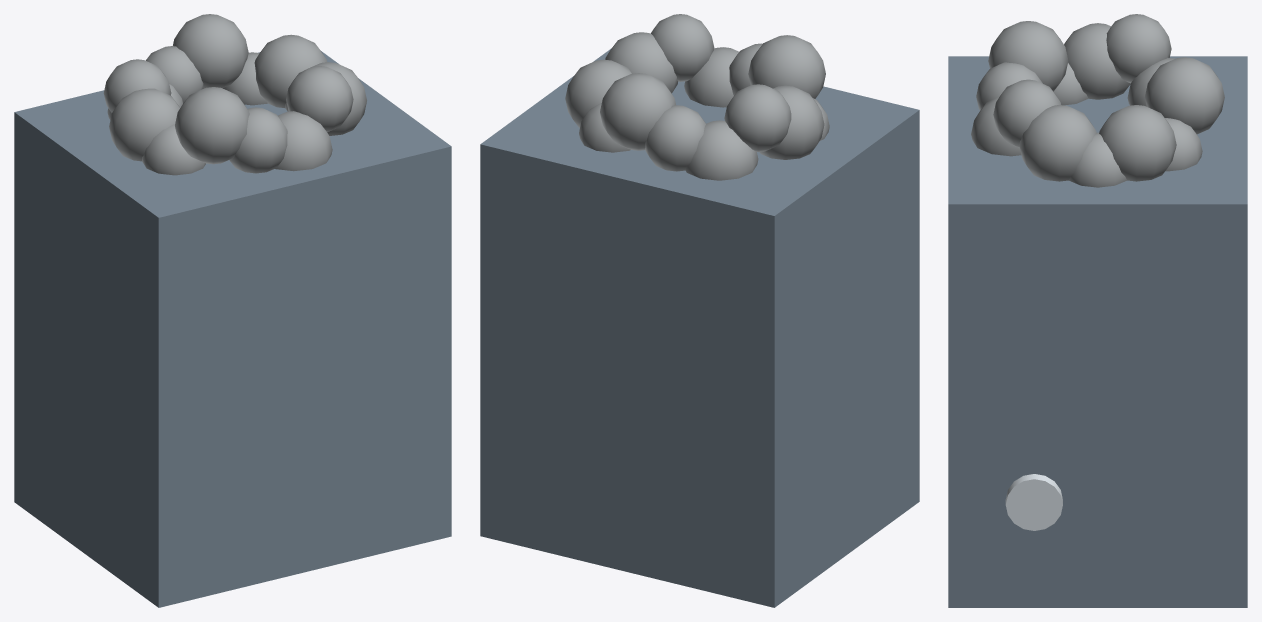
The model's file is sauna_heater01.glb.
The picture shows the model from 3 angles, left to right: view 1: azimuth 30°, elevation 25°; view 2: azimuth 150°, elevation 25°; view 3: azimuth 270°, elevation 25°; orthographic projection. The views are drawn at different scales.
Visible parts, largest first — view 1: casing_steel_painted_0, stones_stone_3; view 2: casing_steel_painted_0, stones_stone_3; view 3: casing_steel_painted_0, stones_stone_3, thermostat_chrome_4.
Part boxes in pixels (x1,y1,x2,y2): casing_steel_painted_0: [14, 51, 451, 607]; stones_stone_3: [103, 14, 366, 175]; casing_steel_painted_0: [480, 48, 919, 607]; stones_stone_3: [565, 14, 829, 180]; casing_steel_painted_0: [948, 56, 1247, 607]; stones_stone_3: [971, 14, 1224, 187]; thermostat_chrome_4: [1005, 474, 1062, 530].
Size of the model in its own units: 0.575 by 0.847 by 0.47.
